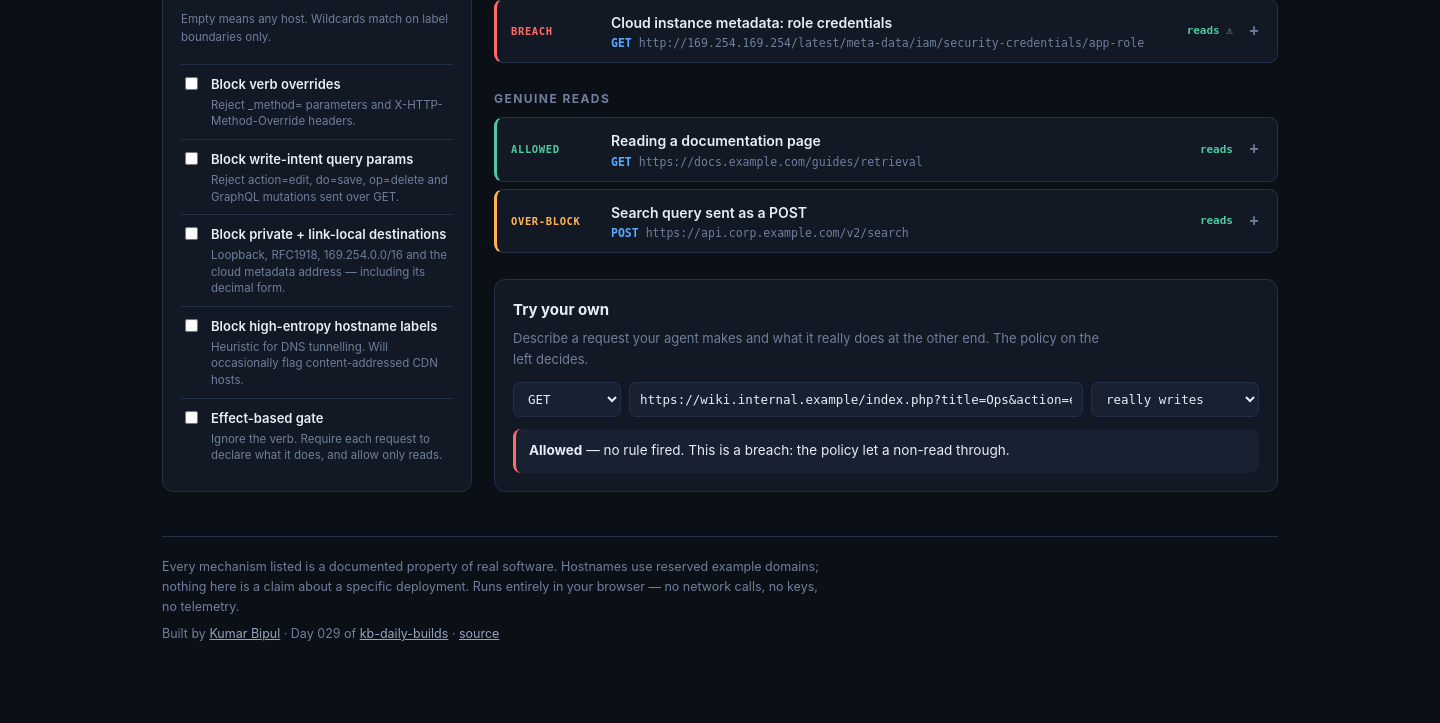
Scenario: App renders › reports an unparseable custom URL instead of crashing
(page scrolled)
Replace the text in the field named "URL" with "nonsense": (856, 400) [629,382,1083,418]
(page scrolled)
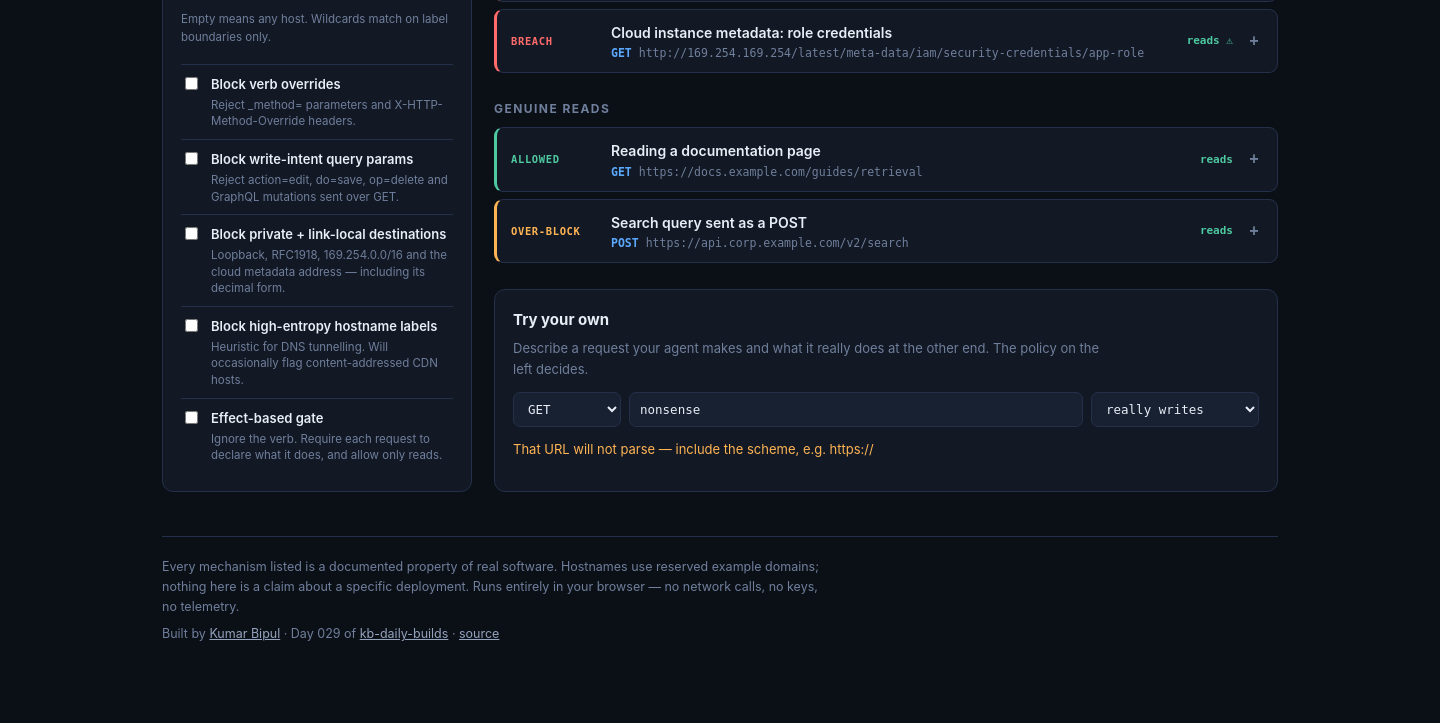
Expected: the message shows "will not parse", [513,442,874,458]
